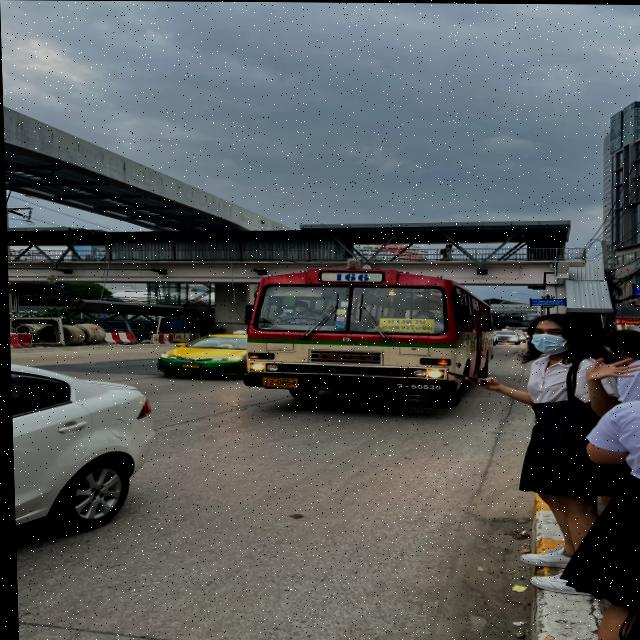BMTA-bus: (238, 265, 494, 408)
Bus-Line-Number: (314, 271, 383, 282)
Destination-Sign-Normal-Expressway: (378, 318, 431, 332)
